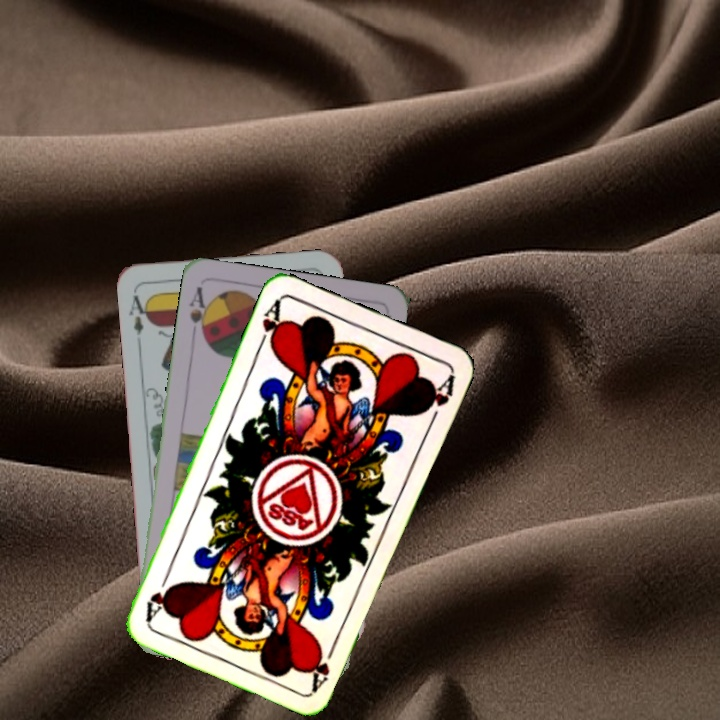EA: (125, 291, 153, 347)
HA: (253, 295, 286, 353), (307, 636, 340, 692)
SA: (185, 282, 213, 343)
